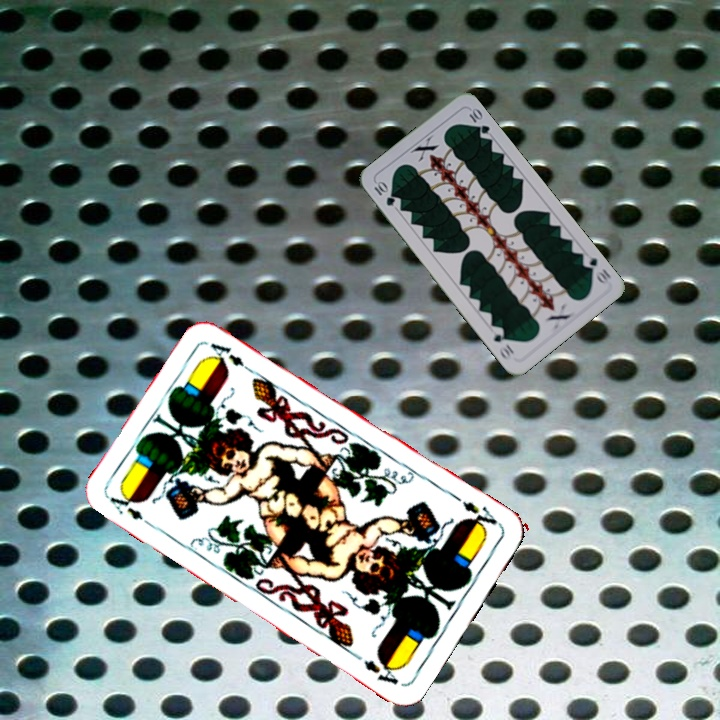EA: (105, 487, 157, 531), (458, 496, 504, 534)
G10: (578, 253, 614, 288), (370, 177, 398, 209)
